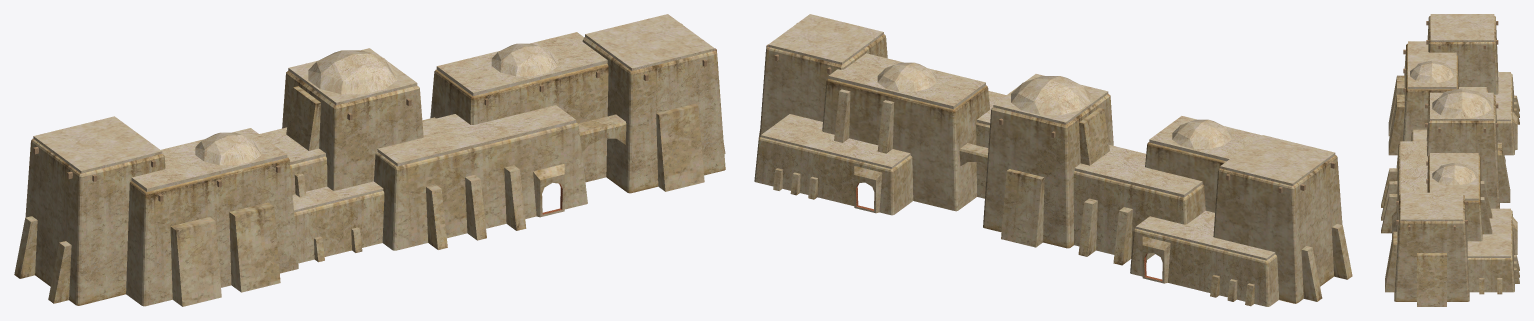
The model's file is thm_tato_block_bldg_64x16_s02_r0_exterior_mesh_r0_l1.fbx.
3 views of the same model, side by side, from view 1: azimuth 30°, elevation 25°; view 2: azimuth 150°, elevation 25°; view 3: azimuth 270°, elevation 25° (orthographic). The views are drawn at different scales.
Parts seen in each view (by area): view 1: mesh_node; view 2: mesh_node; view 3: mesh_node.
Boxes of the visible parts, x1,y1,x2,y2 form: mesh_node: (14,14,725,306); mesh_node: (754,14,1352,306); mesh_node: (1381,14,1519,306).
Size of the model in its own units: 67.12 by 15.34 by 18.41.
